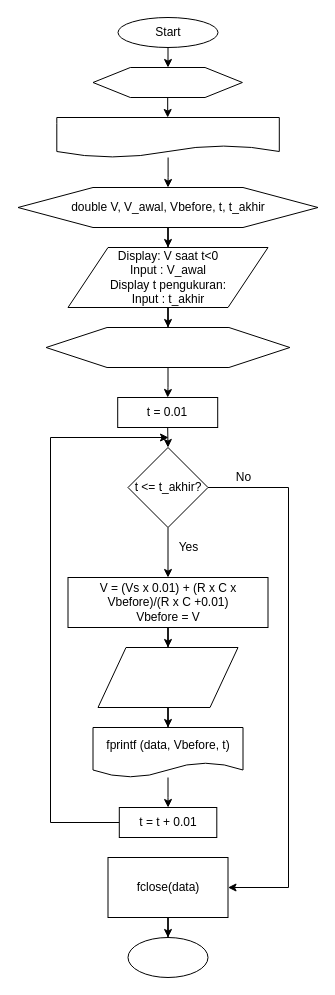
Image size: 335x995. Some labels were removed from this diagram. The shapes that lost their labels are listed below. From the top down, each one's box as (x1, y1, x2, y2) in pixels, then its label:
(92, 66, 242, 98): FILE *data
(56, 116, 279, 158): data = fopen(data.csv, write)
(45, 326, 290, 368): Vbefore = V_awal
(97, 646, 238, 708): Display : Vbefore
(127, 936, 208, 978): end
